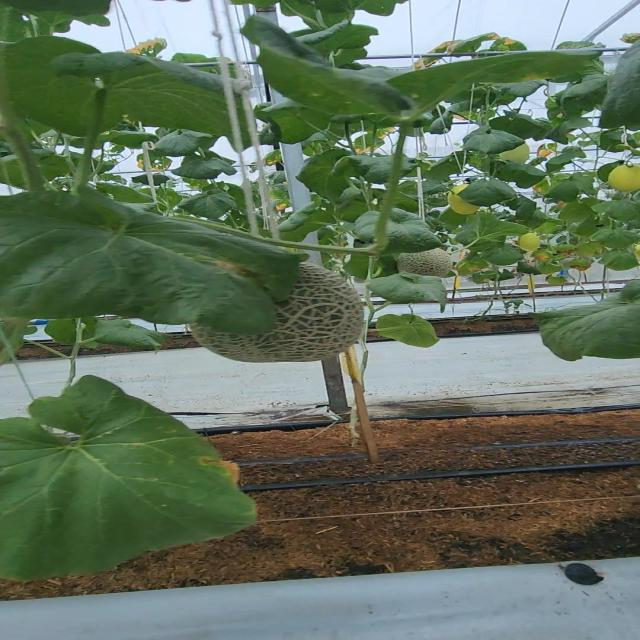Rear-melon: (608, 164, 640, 192)
